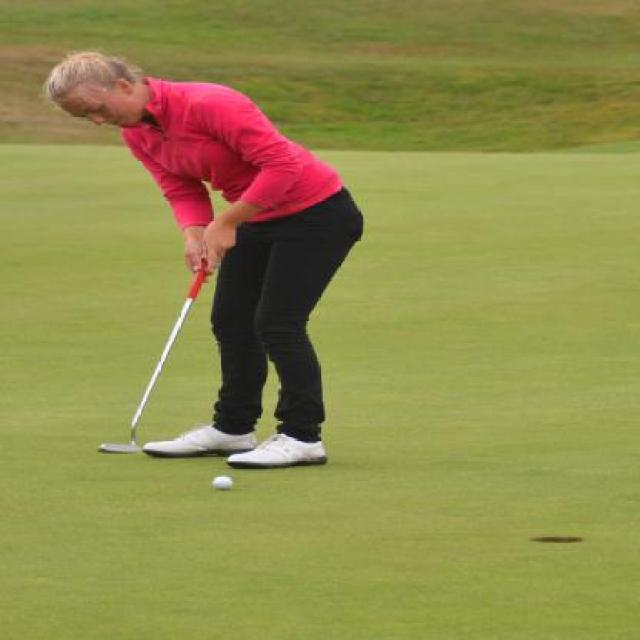club head: (96, 430, 142, 455)
